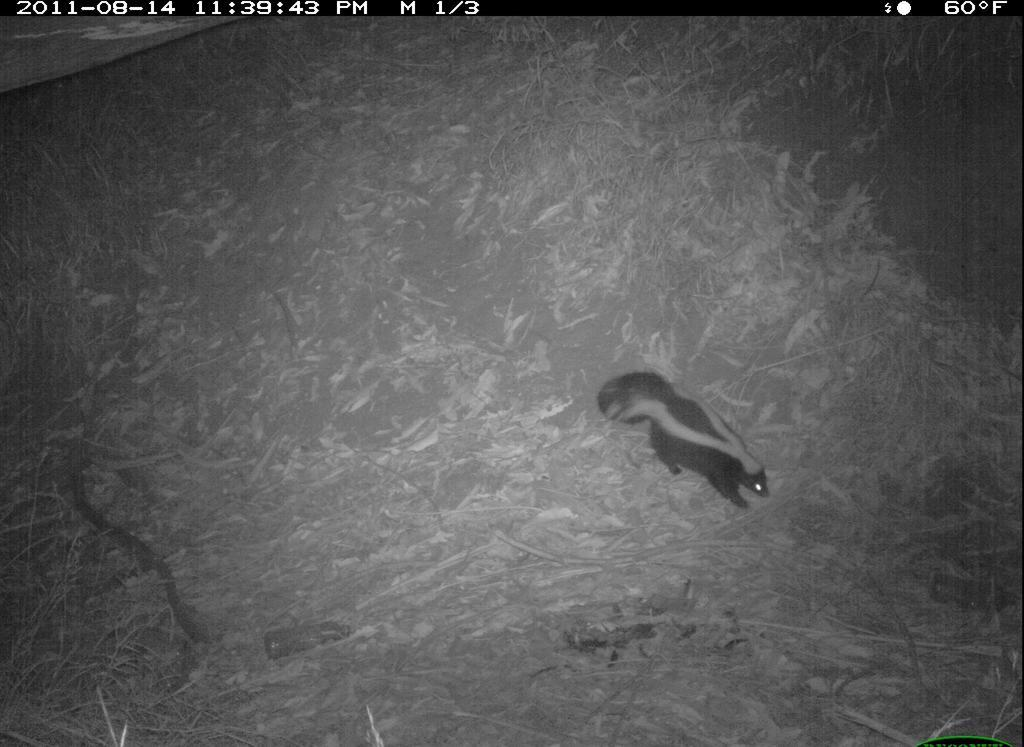skunk: (593, 359, 783, 519)
